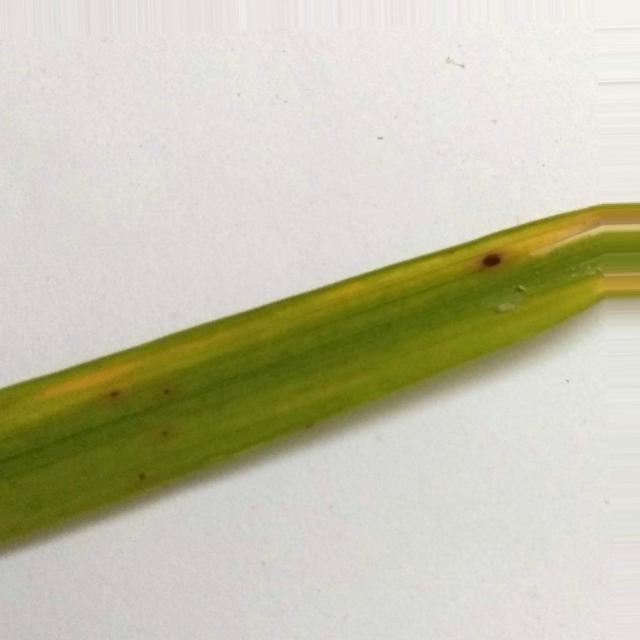Brown_Spot: (146, 414, 179, 441), (481, 252, 502, 268), (161, 388, 176, 404), (106, 382, 121, 398), (302, 421, 320, 430), (139, 472, 148, 479)
